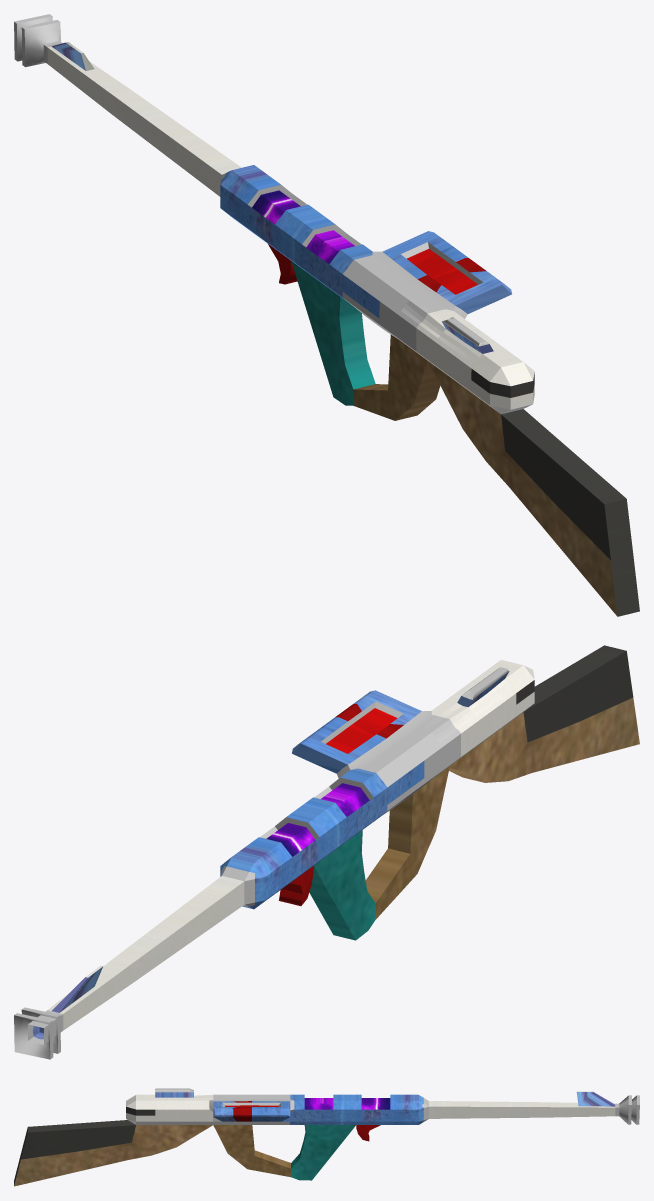
File: LBlabster.fbx
3 views of the same model, one above another, from view 1: azimuth 30°, elevation 25°; view 2: azimuth 150°, elevation 25°; view 3: azimuth 270°, elevation 25° (orthographic). The views are drawn at different scales.
Visible parts, largest first — view 1: pCube2; view 2: pCube2; view 3: pCube2.
Part boxes in pixels (left/top/right/bottom): pCube2: left=14, top=14, right=639, bottom=616; pCube2: left=14, top=645, right=639, bottom=1059; pCube2: left=14, top=1088, right=639, bottom=1186.
Size of the model in its own units: 1.08 by 1.87 by 11.53.
